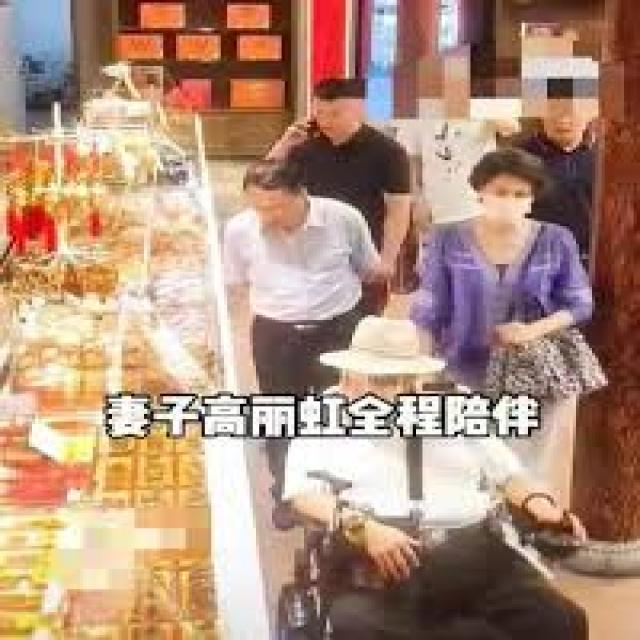wheelchairs: (260, 447, 614, 637)
